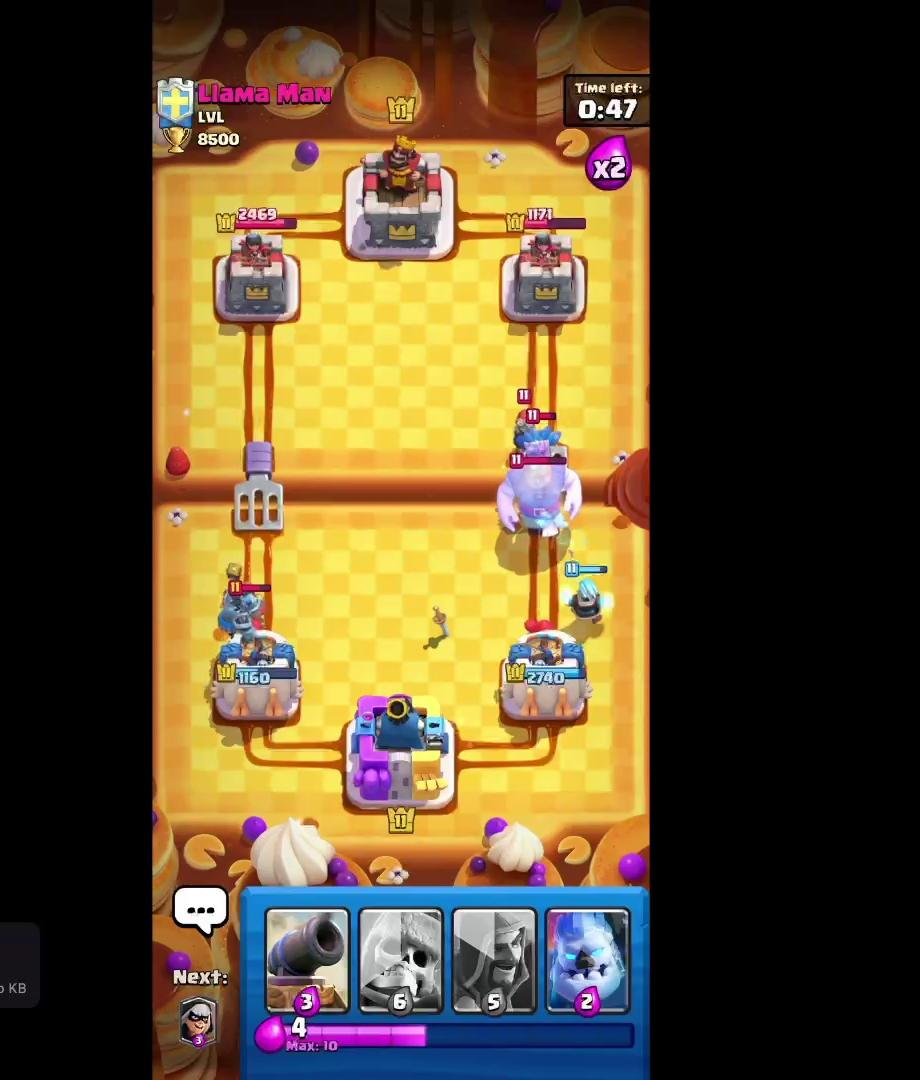Giant: (490, 449, 593, 548)
